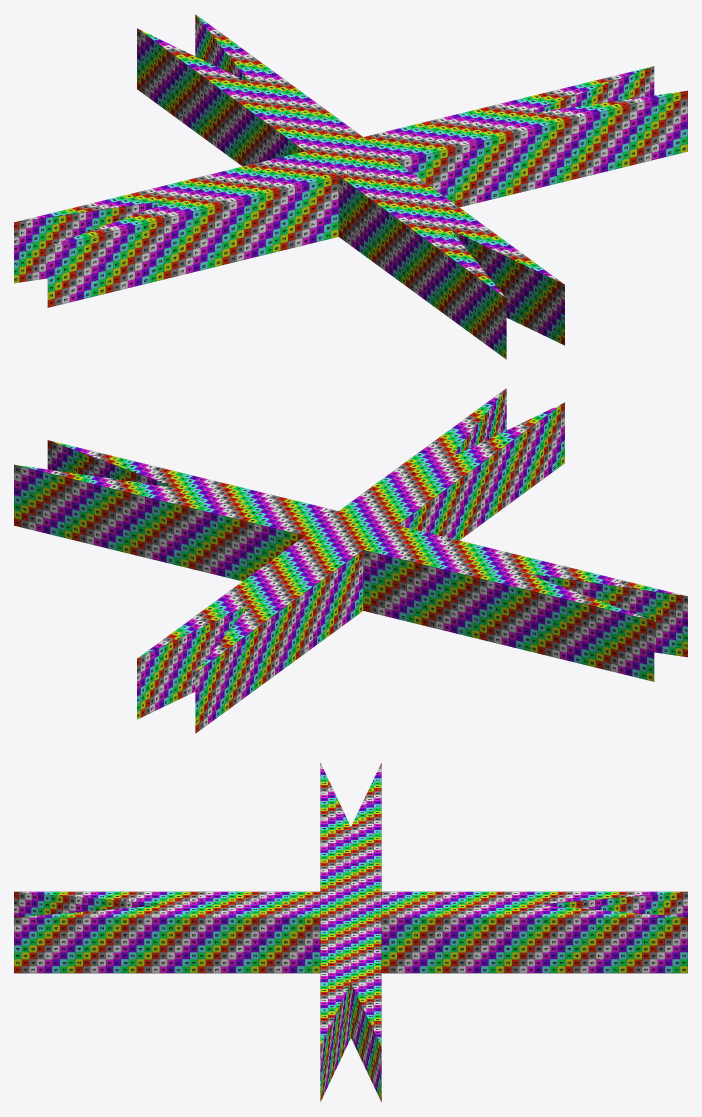
File: garagenrampe6.glb
The picture shows the model from 3 angles, top to bottom: view 1: azimuth 30°, elevation 25°; view 2: azimuth 150°, elevation 25°; view 3: azimuth 270°, elevation 25°; orthographic projection. The views are drawn at different scales.
Parts seen in each view (by area): view 1: threeX, twoX, threeY, fourY, twoY, fourX, oneX, oneY; view 2: fourX, oneX, fourY, threeY, oneY, threeX, twoX, twoY, Cube; view 3: oneY, twoY, oneX, threeY, fourY, twoX, threeX, fourX, Cube.
Part boxes in pixels (x1,y1,x2,y2): threeX: [47, 151, 393, 307]; twoX: [397, 90, 687, 207]; threeY: [308, 153, 506, 359]; fourY: [137, 28, 321, 166]; twoY: [342, 162, 564, 345]; fourX: [14, 151, 328, 283]; oneX: [305, 66, 654, 174]; oneY: [195, 14, 395, 173]; fourX: [310, 525, 654, 681]; oneX: [14, 464, 387, 581]; fourY: [195, 527, 390, 733]; threeY: [305, 402, 564, 544]; oneY: [137, 527, 392, 719]; threeX: [309, 525, 687, 657]; twoX: [47, 440, 395, 535]; twoY: [307, 388, 506, 534]; Cube: [306, 525, 396, 547]; oneY: [320, 892, 687, 973]; twoY: [14, 892, 370, 973]; oneX: [320, 892, 381, 1101]; threeY: [14, 891, 366, 917]; fourY: [370, 891, 687, 917]; twoX: [320, 893, 380, 1101]; threeX: [320, 763, 380, 915]; fourX: [321, 763, 381, 911]; Cube: [320, 891, 381, 917].
Bounding box in the file's own units: 11 × 1 × 11.
1 material, 1 textured.
